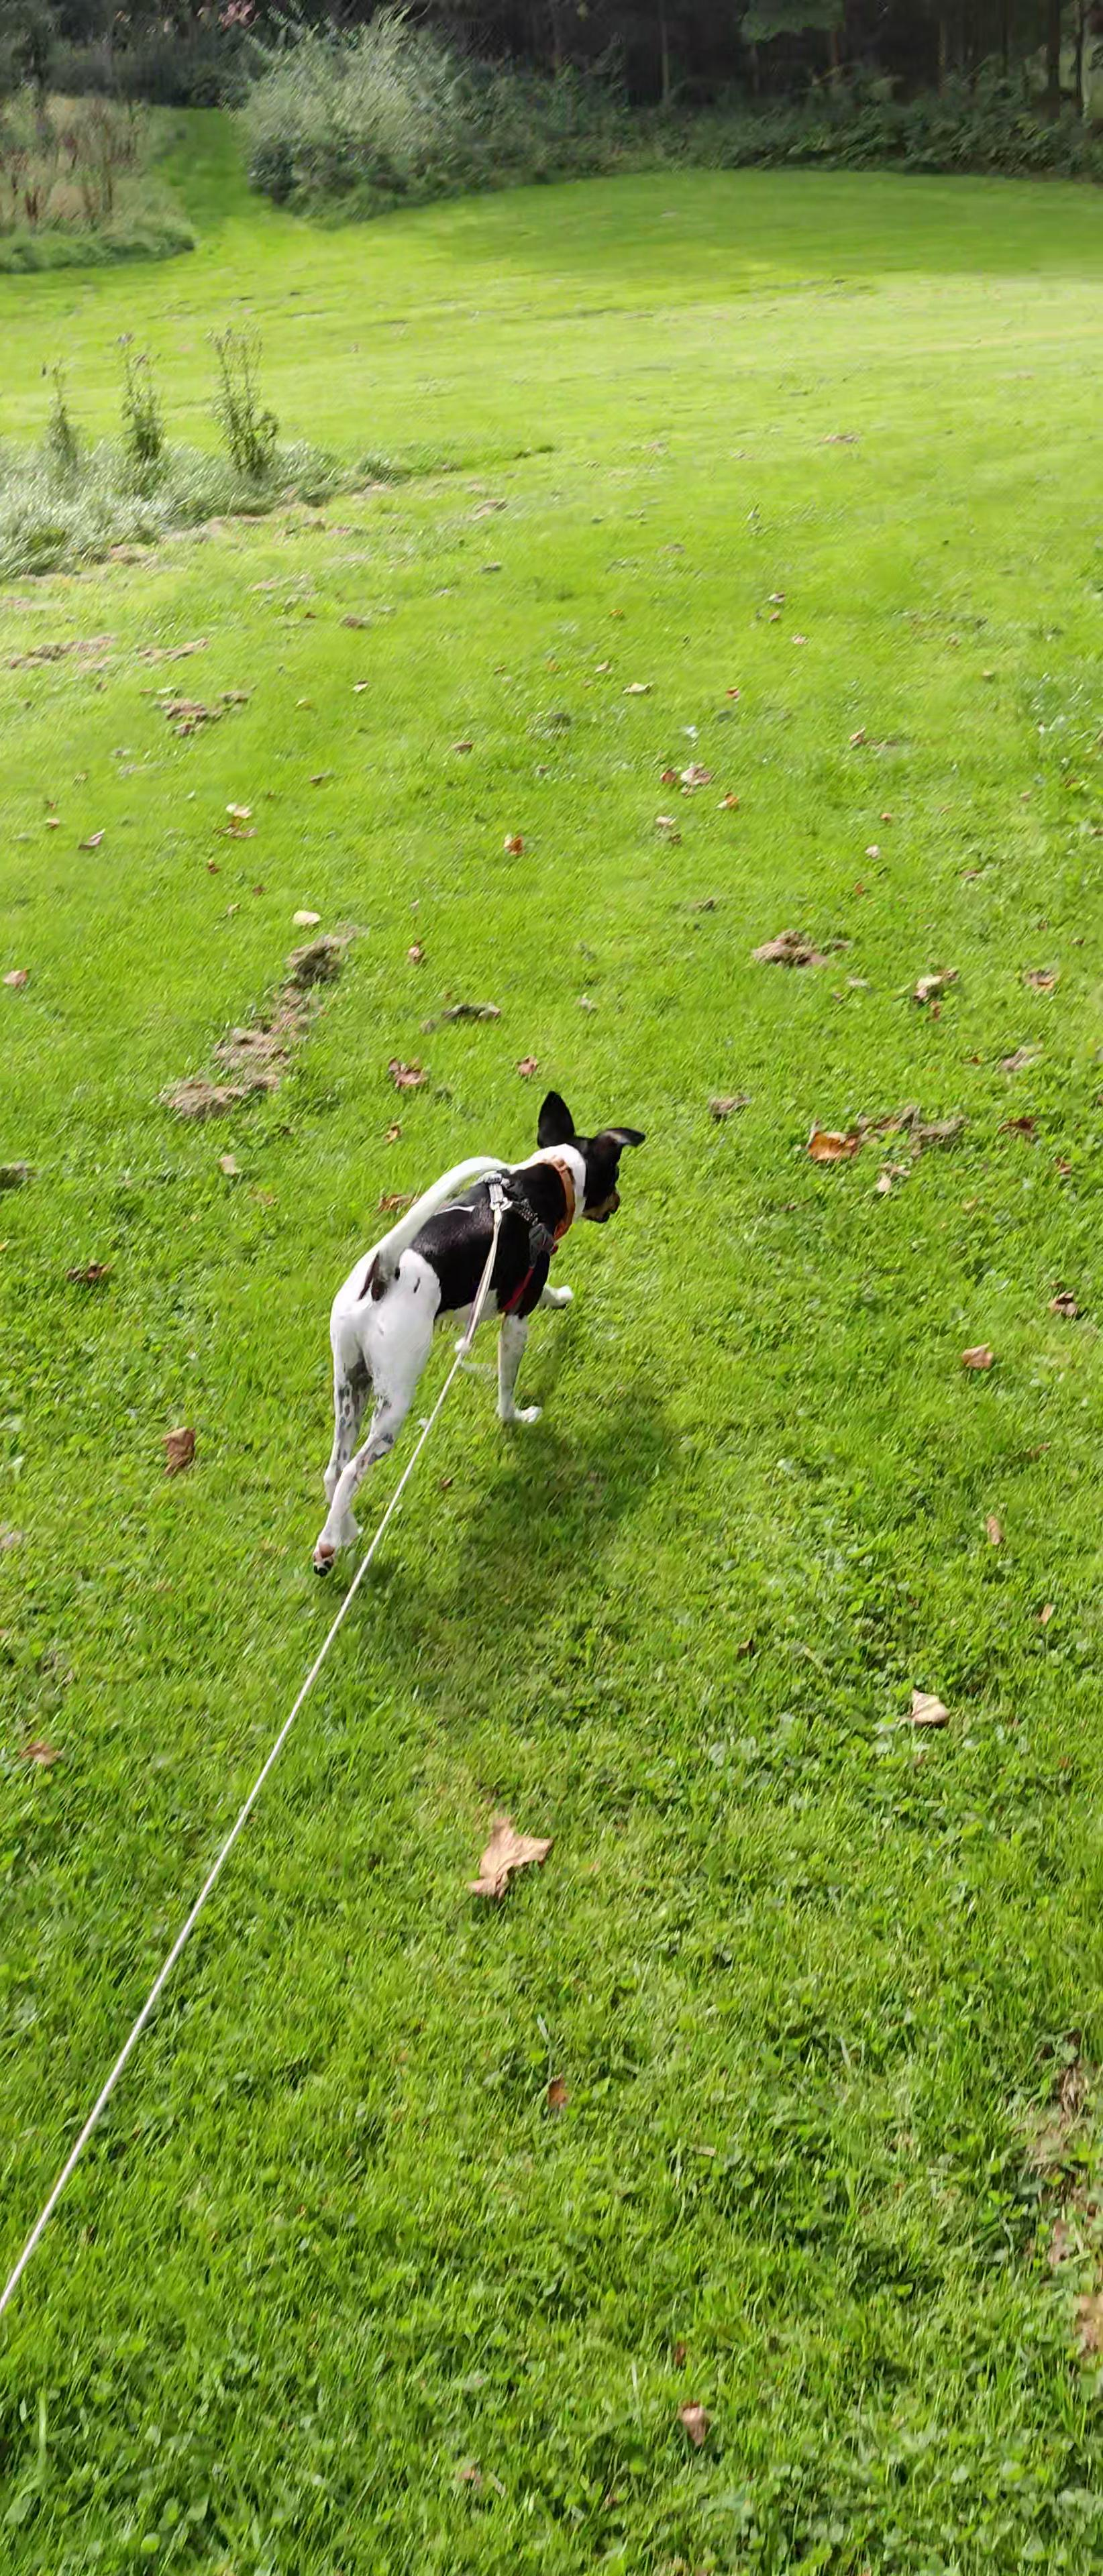Dog: (275, 1083, 661, 1595)
